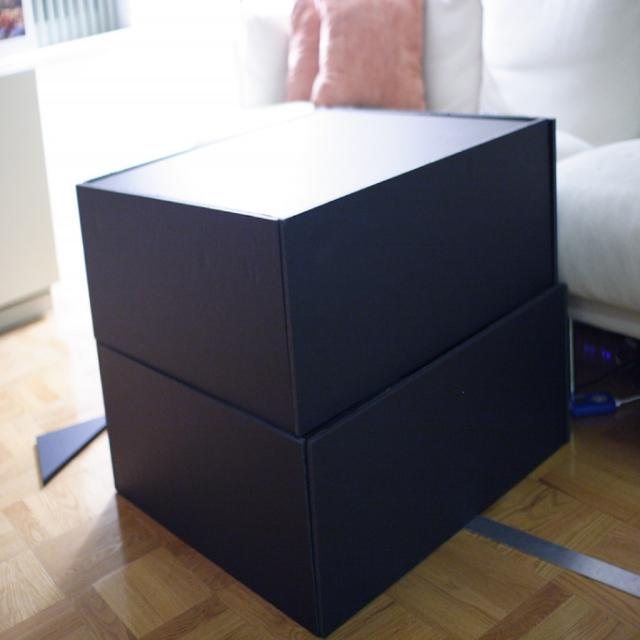Box: (76, 106, 572, 640)
